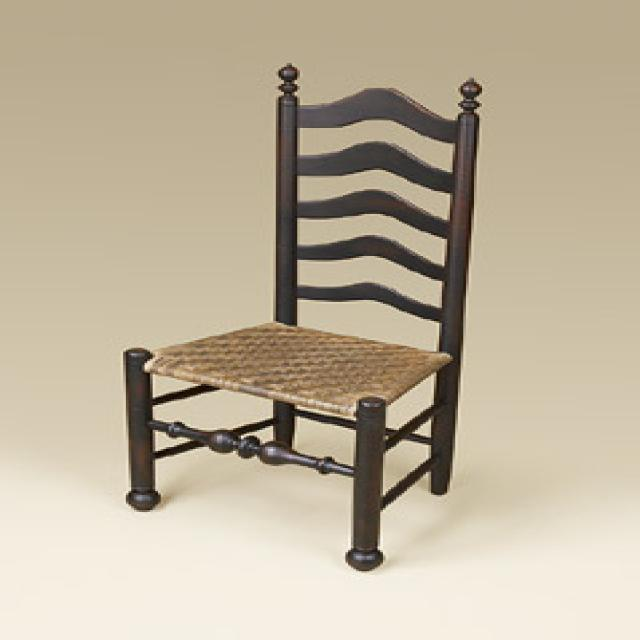chair: (121, 61, 482, 571)
